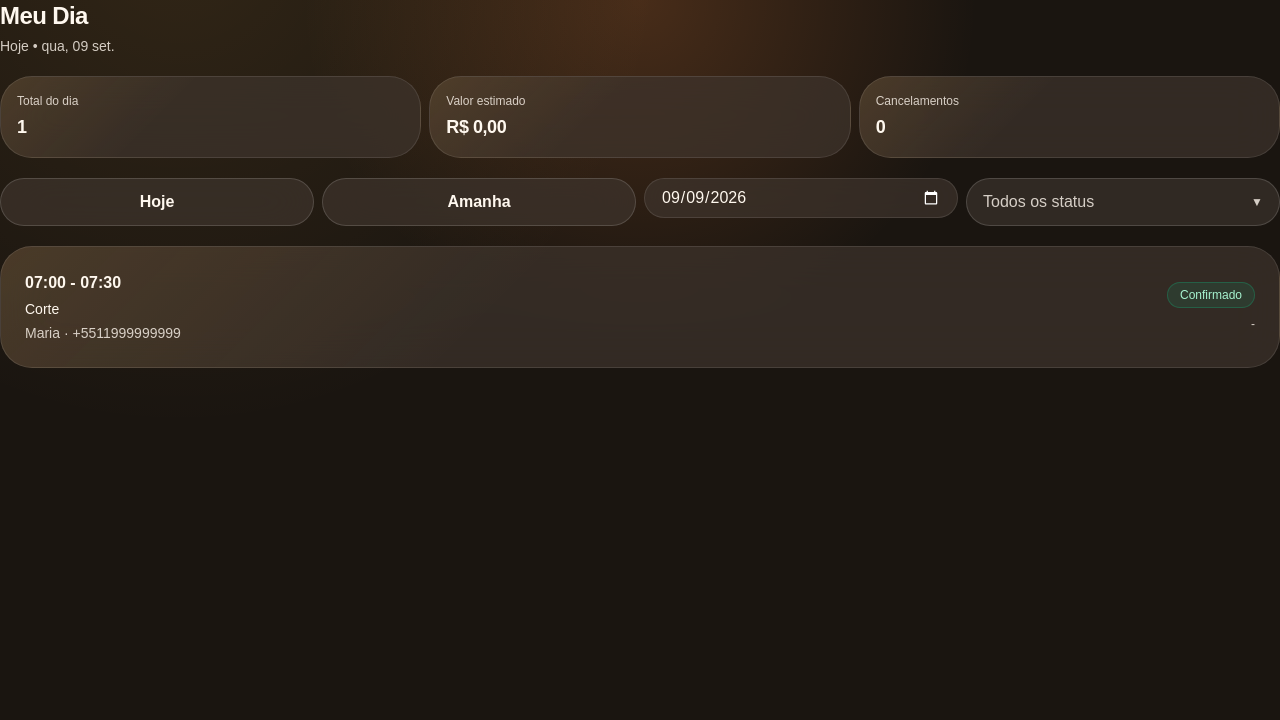
Scenario: MeuDiaPage › renderiza lista e abre/fecha detalhe
This screenshot has width=1280, height=720.
Step 1. Click the button with aria-label "Ver detalhes de Corte" → (73, 282), box [25, 271, 1255, 343]
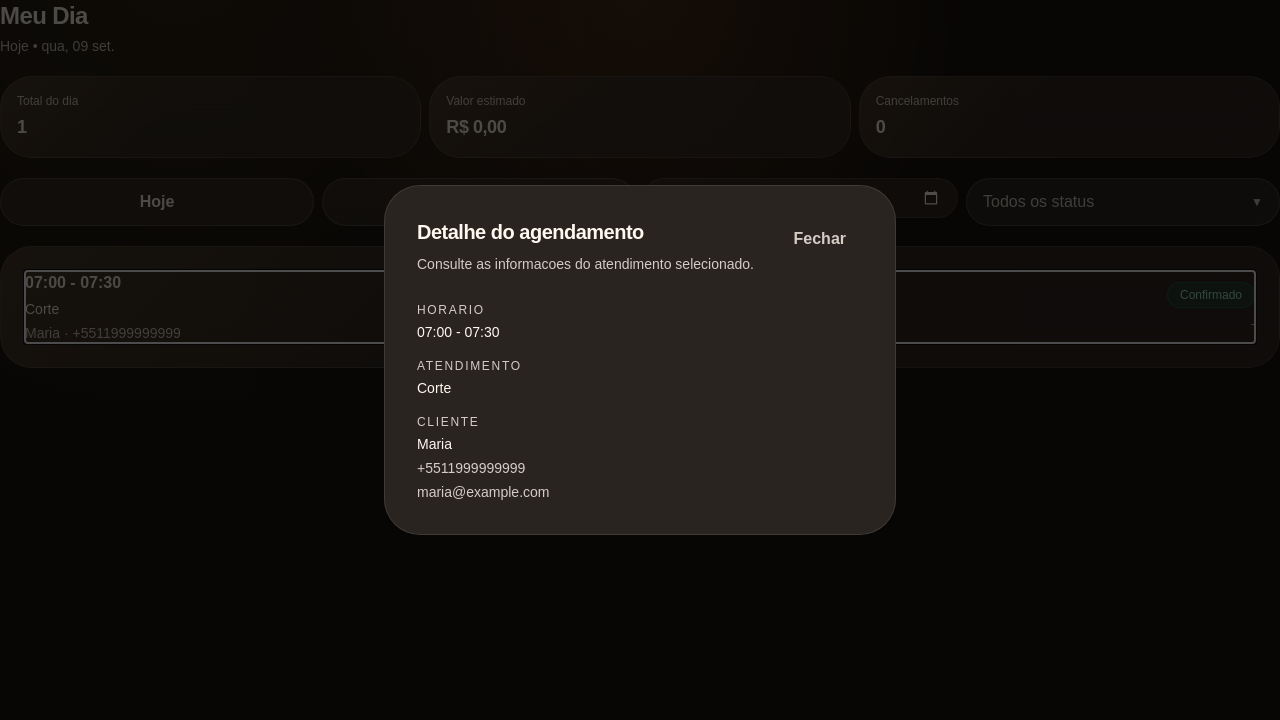
Check: the dialog is shown
Check: the heading "Detalhe do agendamento" is shown, box [417, 221, 644, 243]
Check: the text "+5511999999999" is shown, box [417, 460, 525, 476]
Step 2. Click the button "Fechar" → (820, 239), box [776, 218, 863, 260]
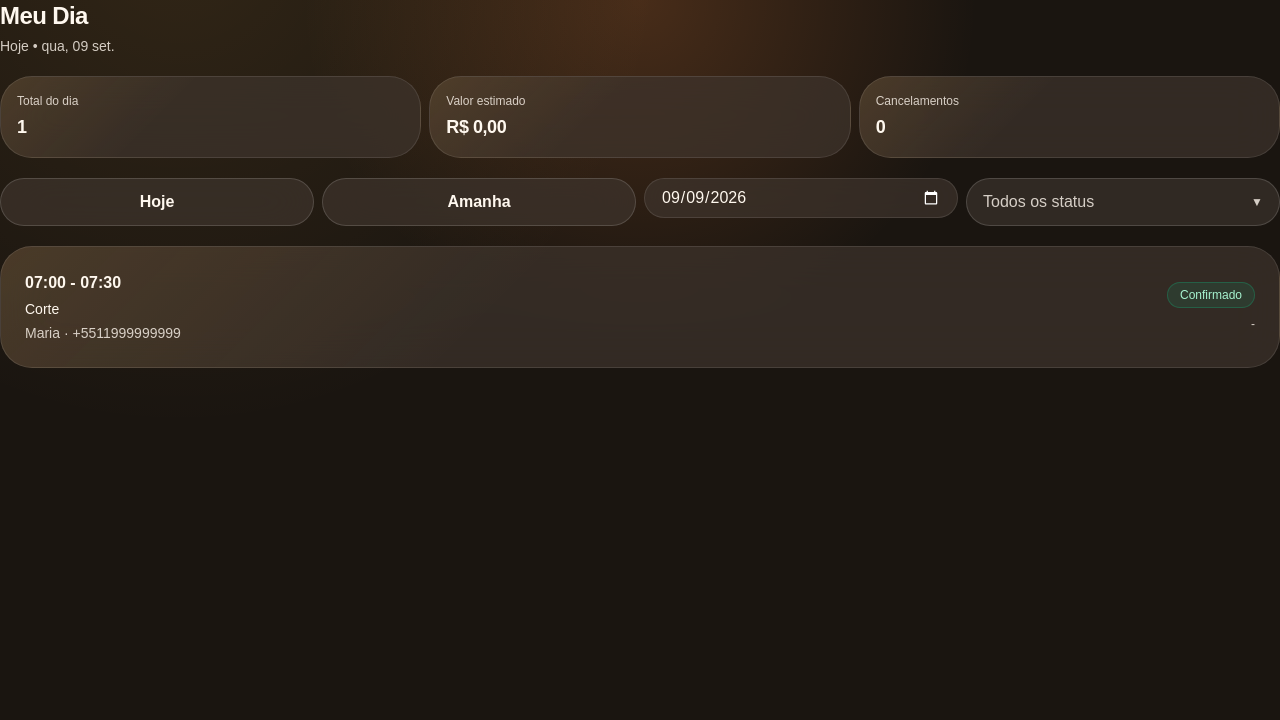
Check: the heading "Detalhe do agendamento" is gone
